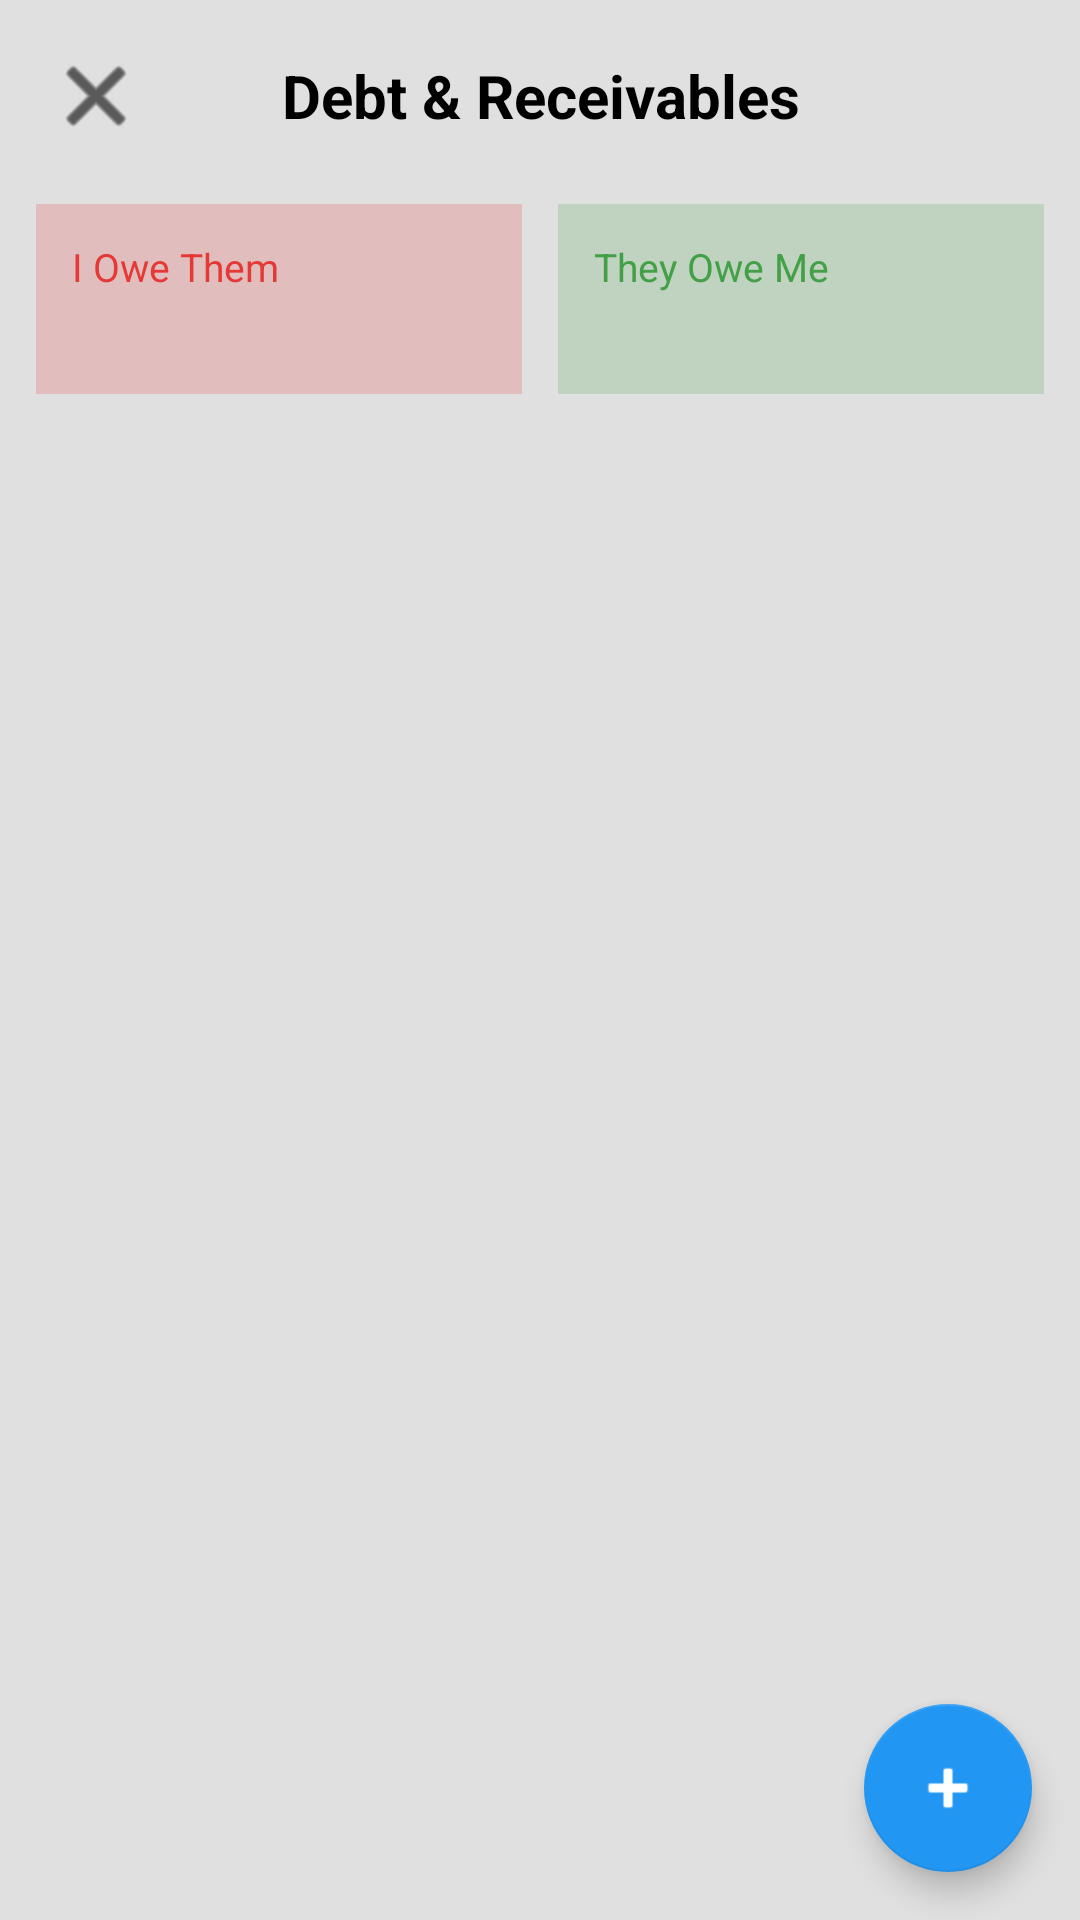

Screen size 1080px×1920px. Icon name, then its center in pixels as (x=x, y=y):
Add Debt: (x=948, y=1788)
